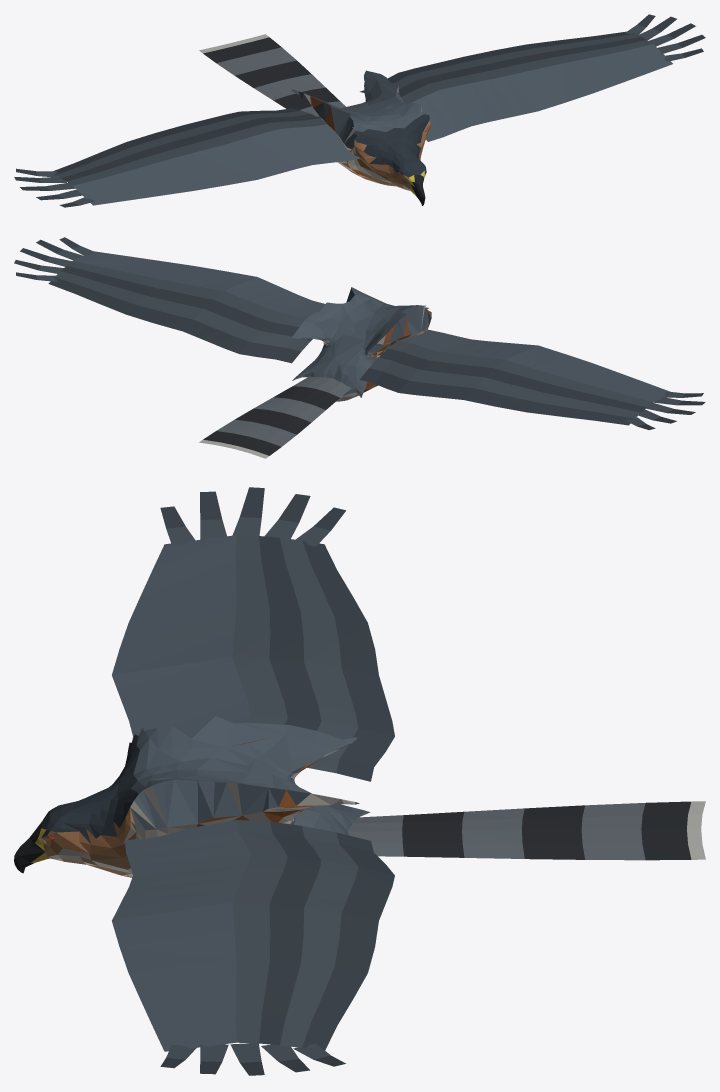
Rendered from sharp_shinned_hawk.glb.
3 views of the same model, one above another, from view 1: azimuth 30°, elevation 25°; view 2: azimuth 150°, elevation 25°; view 3: azimuth 270°, elevation 25° (orthographic). The views are drawn at different scales.
Visible parts, largest first — view 1: lod0; view 2: lod0; view 3: lod0.
Boxes of the visible parts, <box> form: lod0: <box>14,14,705,207</box>; lod0: <box>14,237,705,458</box>; lod0: <box>14,487,705,1075</box>.
Size of what is drawn, in the model's own units: 0.5837 by 0.0605 by 0.29.
